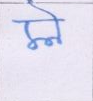o_matra: (51, 8, 64, 44)
